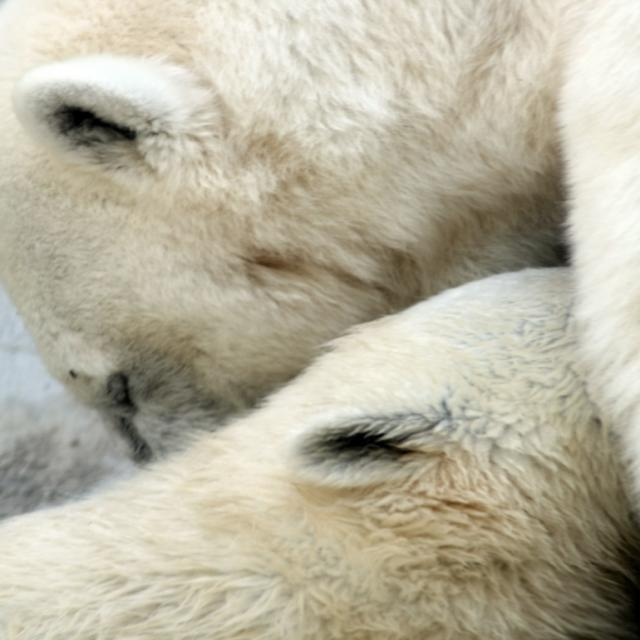Bear: (0, 266, 640, 640)
